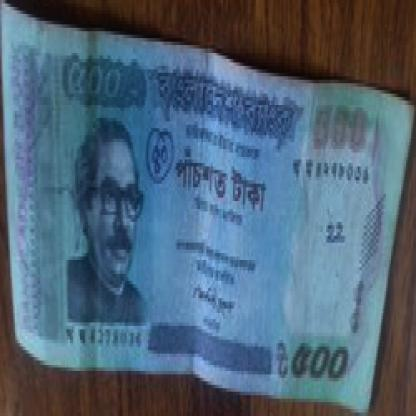500 taka: (171, 146, 278, 218), (47, 38, 128, 115)
currency: (7, 3, 409, 406)
